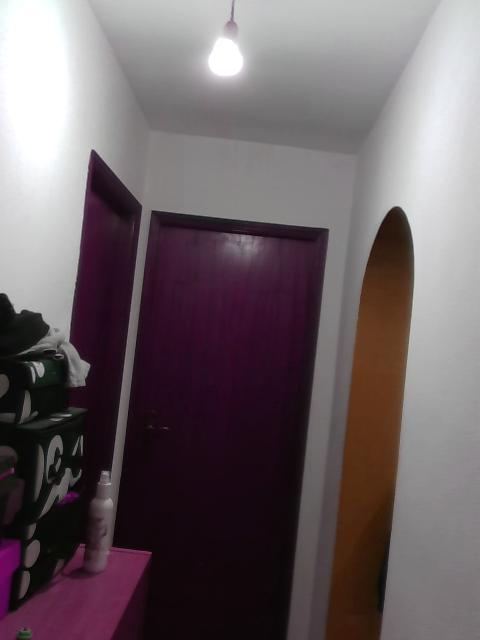closed_door: (130, 208, 328, 639)
